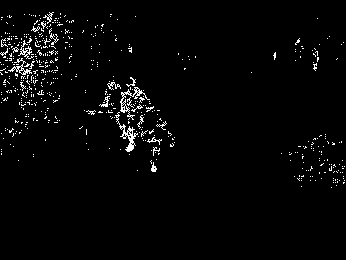person: (118, 75, 152, 153)
